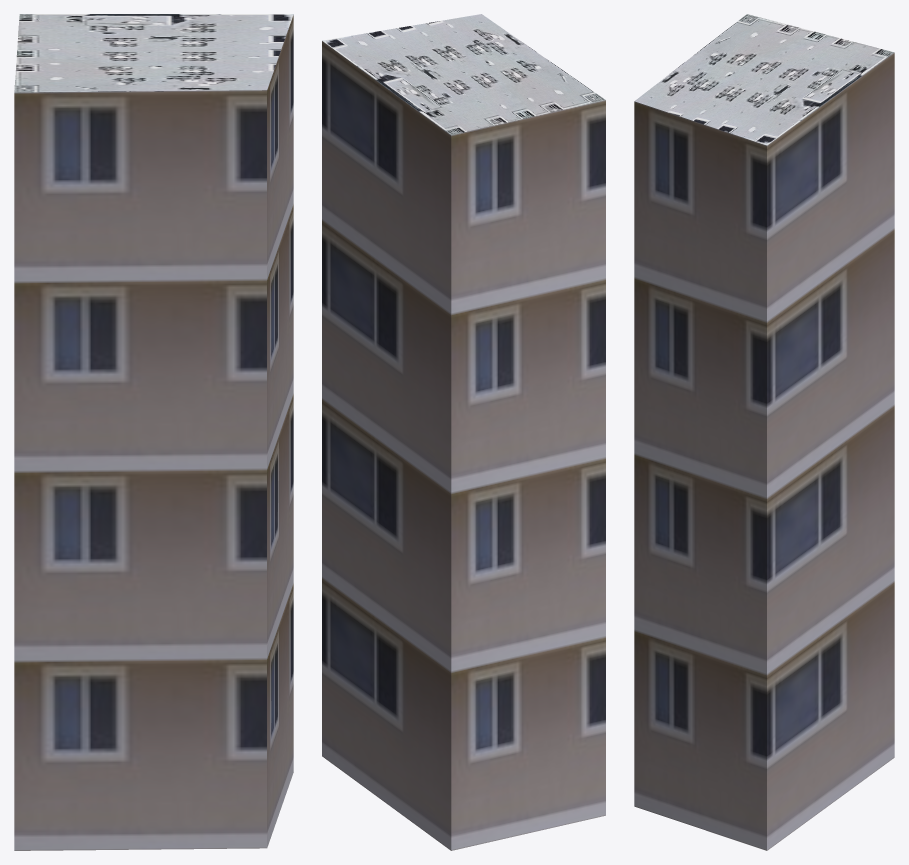
The model's file is ResTex__5237.fbx.
3 renders of one model, left to right at view 1: azimuth 30°, elevation 25°; view 2: azimuth 150°, elevation 25°; view 3: azimuth 270°, elevation 25°, orthographic. The views are drawn at different scales.
Parts seen in each view (by area): view 1: CityEngineMaterial_21_m, CityEngineMaterial_4_m; view 2: CityEngineMaterial_21_m, CityEngineMaterial_4_m; view 3: CityEngineMaterial_21_m, CityEngineMaterial_4_m.
Boxes of the visible parts, left/top/right/bottom form: CityEngineMaterial_21_m: left=14, top=15, right=293, bottom=850; CityEngineMaterial_4_m: left=14, top=14, right=293, bottom=92; CityEngineMaterial_21_m: left=322, top=41, right=605, bottom=850; CityEngineMaterial_4_m: left=322, top=14, right=605, bottom=135; CityEngineMaterial_21_m: left=634, top=52, right=894, bottom=850; CityEngineMaterial_4_m: left=635, top=14, right=893, bottom=145.
Bounding box in the file's own units: 4.8 × 12 × 4.01.
Materials: 2 (2 with a texture image).
